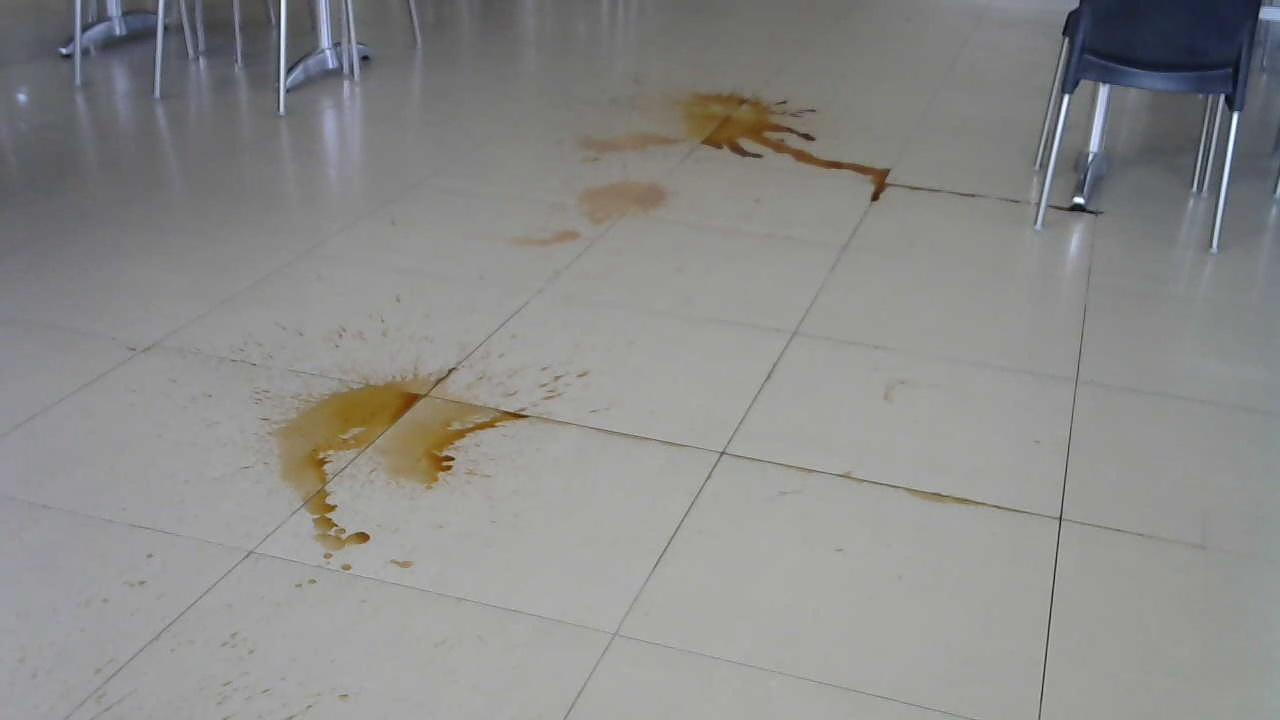dirty_floor: (258, 360, 594, 589), (563, 76, 900, 200), (497, 182, 672, 252)
